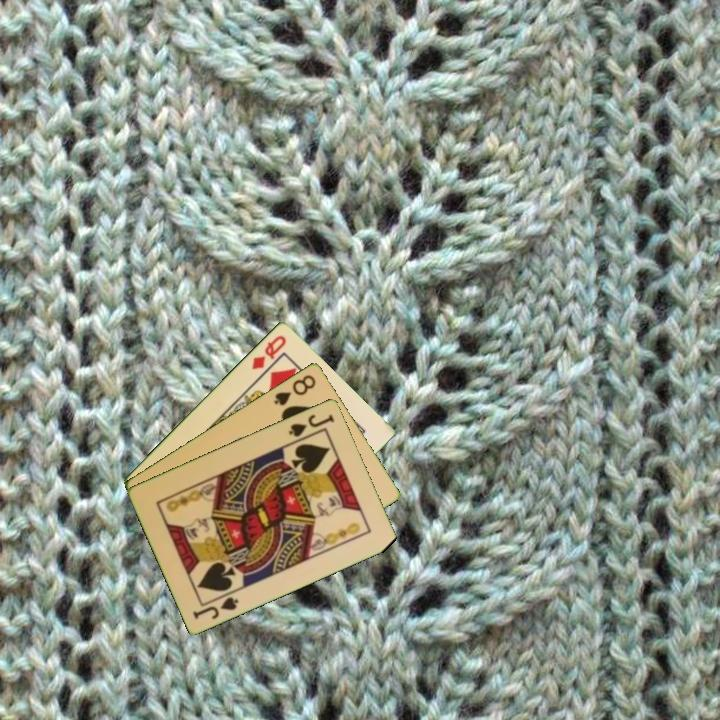8s: (270, 371, 319, 408)
Js: (285, 410, 337, 440), (189, 593, 242, 622)
Qd: (248, 331, 289, 372)
